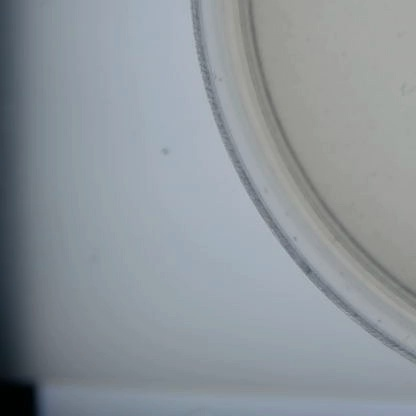worm: (386, 77, 416, 103)
